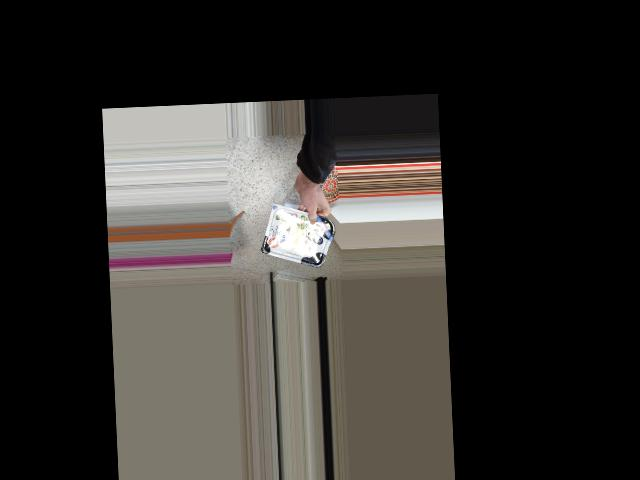cheese: (268, 213, 332, 262)
